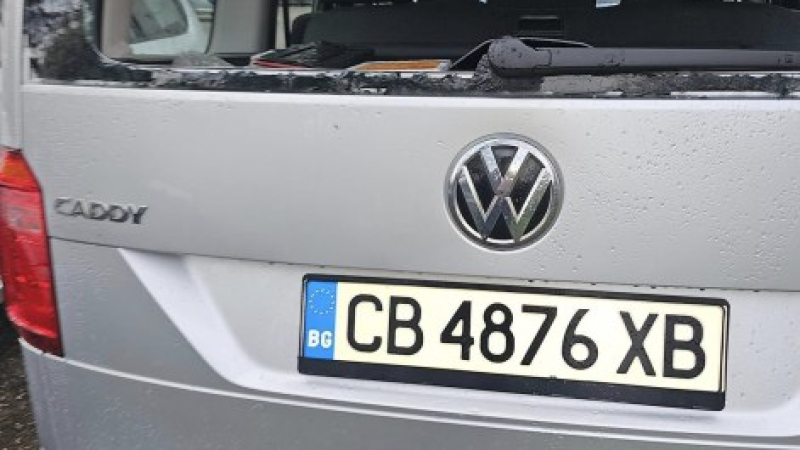registration_plate: (297, 273, 730, 413)
